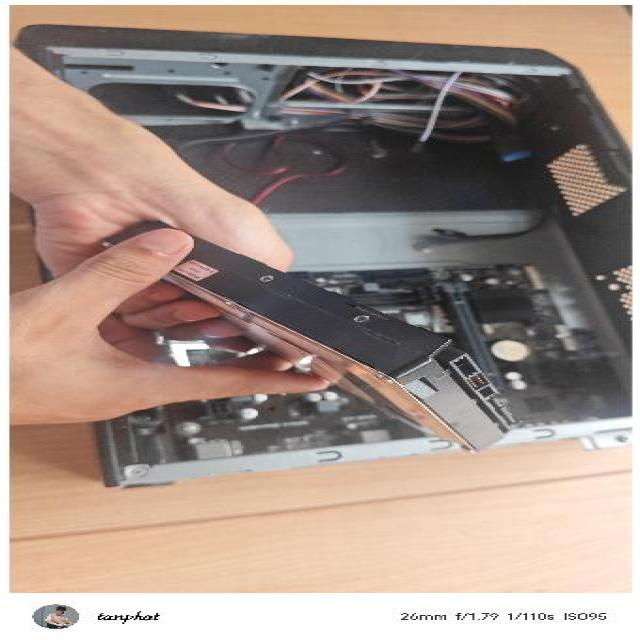DISK: (97, 214, 524, 456)
